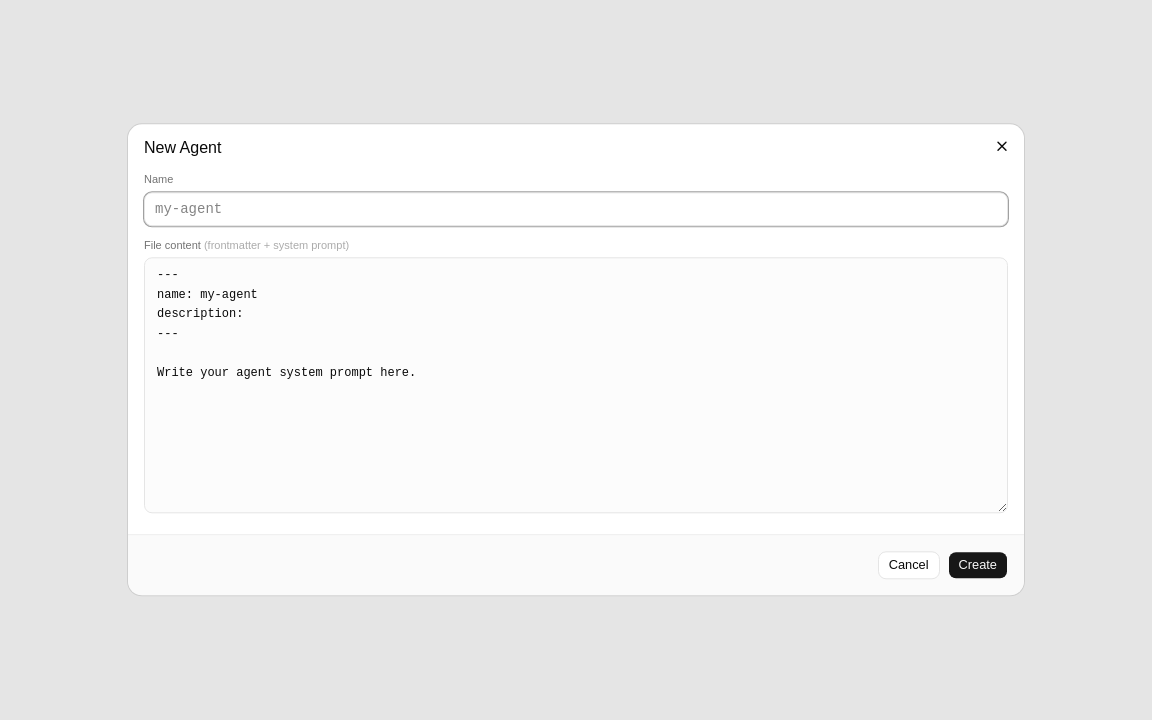
Test: AgentEditorModal — new agent › shows error when name is empty on save
This screenshot has width=1152, height=720.
Click the button "Create".
click(978, 566)  # box [948,552,1008,580]
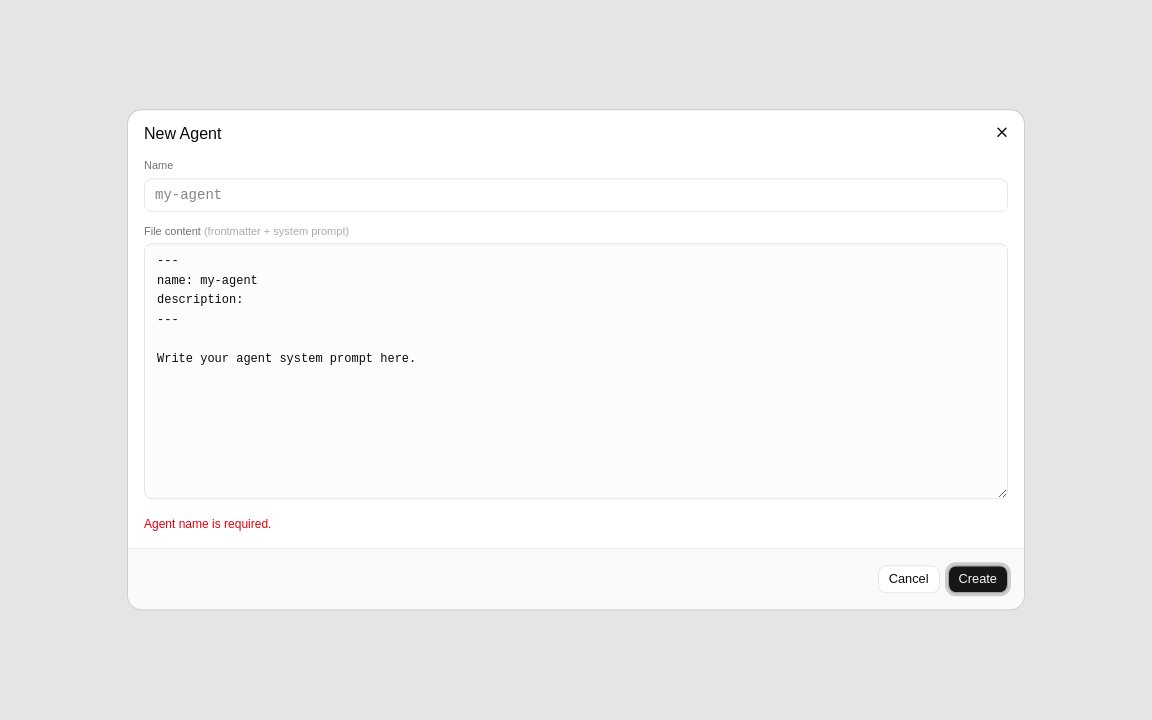
Expected: the text "Agent name is required." is shown, [144,518,271,532]
